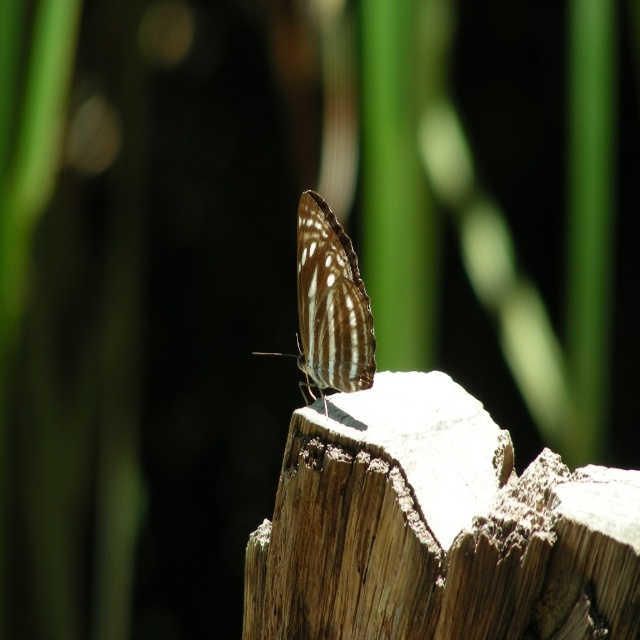Butterfly: (243, 176, 371, 453)
